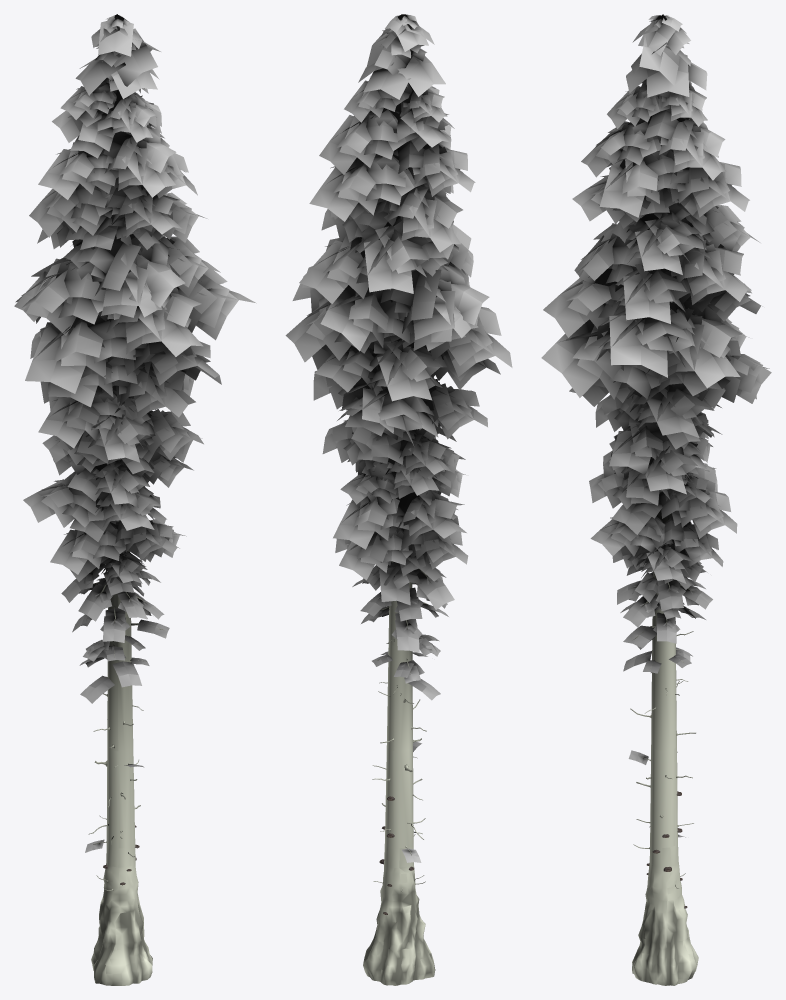
Rendered from PW_Tree_Sequoia_01.fbx.
The picture shows the model from 3 angles, left to right: view 1: azimuth 30°, elevation 25°; view 2: azimuth 150°, elevation 25°; view 3: azimuth 270°, elevation 25°; orthographic projection.
Visible parts, largest first — view 1: PW_Tree_Sequoia_01_LOD0; view 2: PW_Tree_Sequoia_01_LOD0; view 3: PW_Tree_Sequoia_01_LOD0.
Boxes of the visible parts, x1,y1,x2,y2 form: PW_Tree_Sequoia_01_LOD0: [14, 14, 256, 985]; PW_Tree_Sequoia_01_LOD0: [285, 14, 512, 985]; PW_Tree_Sequoia_01_LOD0: [541, 14, 771, 985].
Size of what is drawn, in the model's own units: 1720 by 7355 by 1610.
